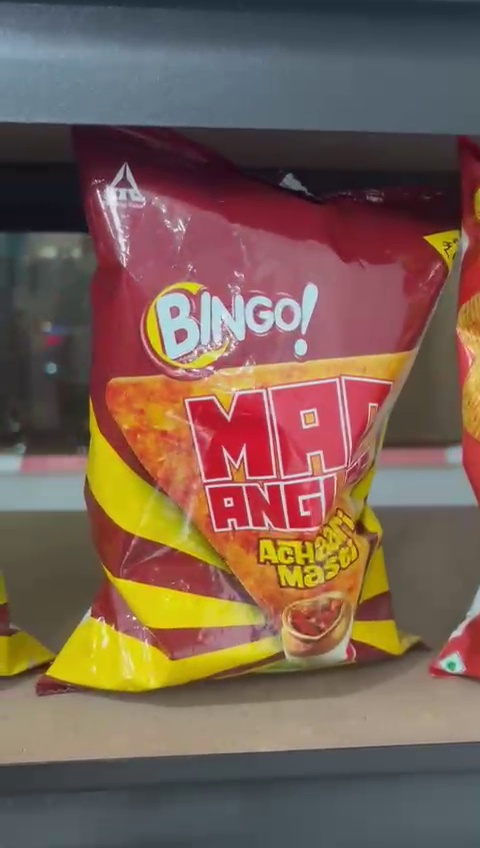Bingo Mad Angles: (76, 132, 435, 685)
